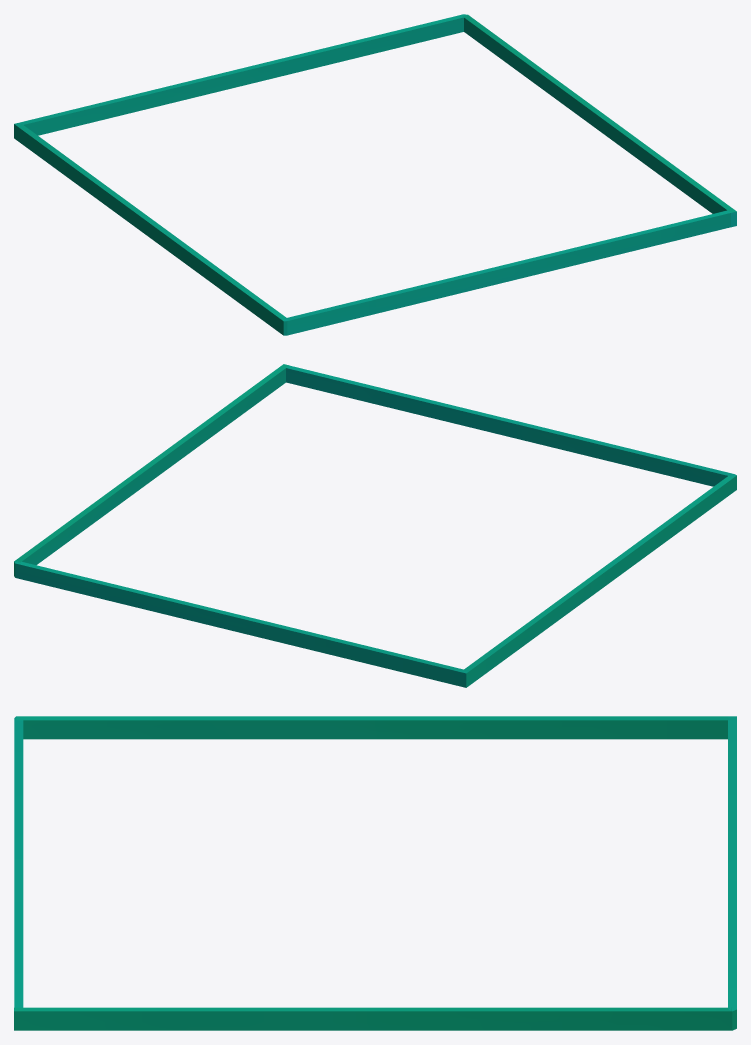
The model's file is aux_wall_vis.dae.
3 renders of one model, top to bottom at view 1: azimuth 30°, elevation 25°; view 2: azimuth 150°, elevation 25°; view 3: azimuth 270°, elevation 25°, orthographic. The views are drawn at different scales.
Visible parts, largest first — view 1: aux_wall; view 2: aux_wall; view 3: aux_wall.
Boxes of the visible parts, x1,y1,x2,y2 form: aux_wall: (14, 14, 736, 335); aux_wall: (14, 364, 736, 687); aux_wall: (14, 716, 736, 1030).
Size of the model in its own units: 5.53 by 5.73 by 0.1685.
